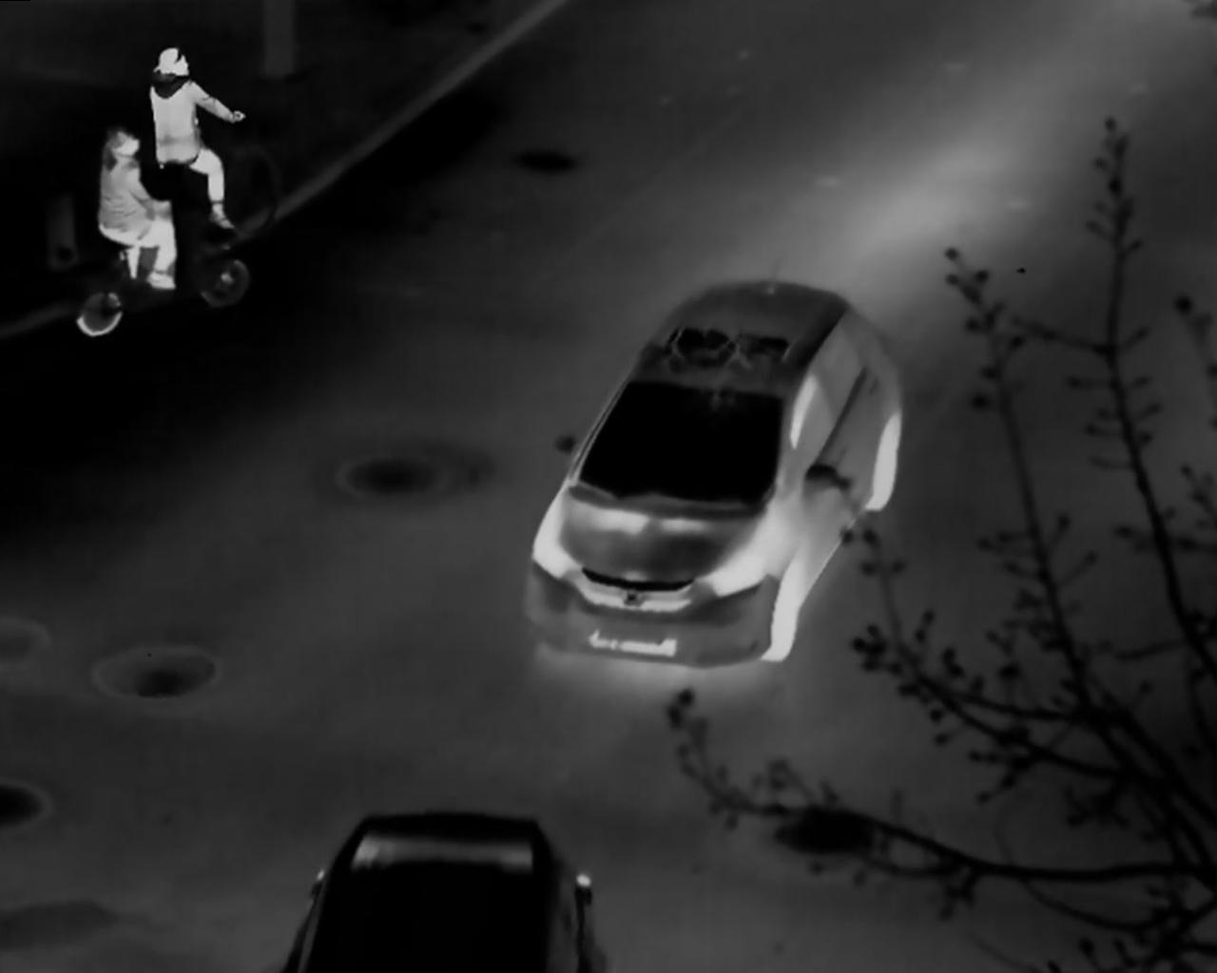person: (148, 46, 245, 232), (98, 126, 179, 292)
